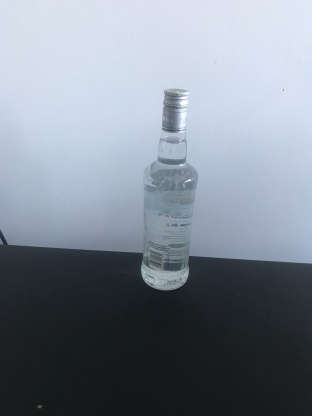nakretka: (160, 84, 191, 135)
